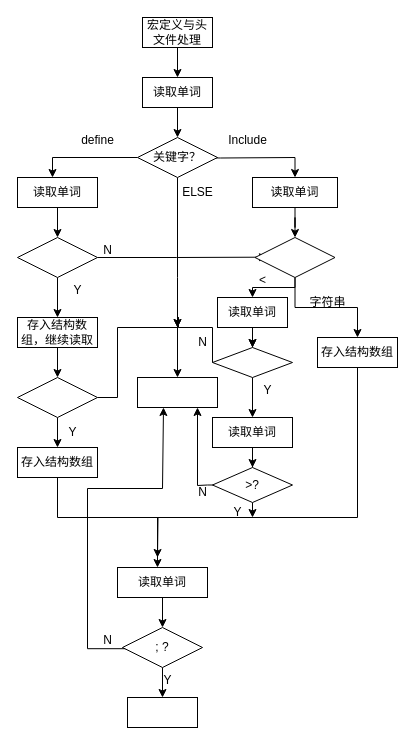
The diagram is 415 pixels wide and 745 high, and some of its shapes have lost their labels. The shapes that lost their labels are listed below. From the top down, each one's centre as x and y in pixels, then its label:
(57,257): 标识符？
(294,257): < or 字符串？
(252,362): 头文件？
(57,397): 常量？
(177,392): ERROR
(162,712): 流程
